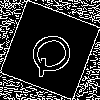Q: (25, 25, 85, 80)
